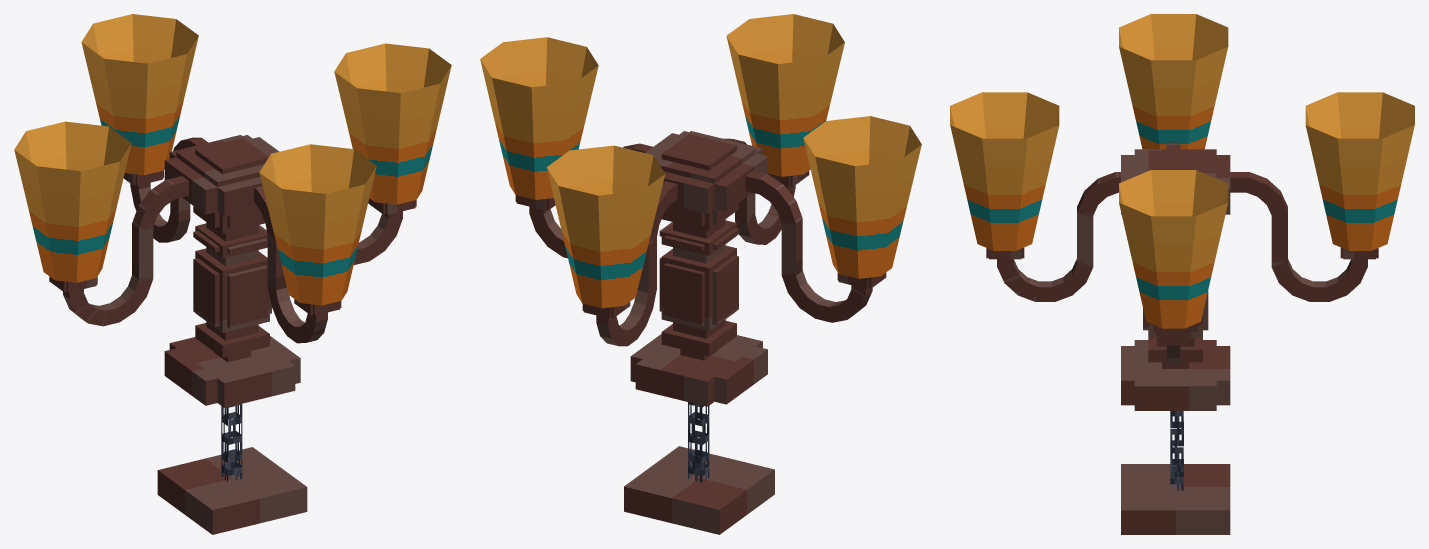
Rendered from ceiling_lights.gltf.
3 views of the same model, side by side, from view 1: azimuth 30°, elevation 25°; view 2: azimuth 150°, elevation 25°; view 3: azimuth 270°, elevation 25° (orthographic).
Visible parts, largest first — view 1: cylinder (×4), cube (×17); view 2: cylinder (×4), cube (×17); view 3: cylinder (×4), cube (×10).
Part boxes in pixels (x1,y1,x2,y2): cylinder (×4): [14, 14, 451, 305]; cube (×17): [132, 135, 307, 534]; cylinder (×4): [480, 14, 921, 308]; cube (×17): [624, 131, 802, 534]; cylinder (×4): [950, 14, 1414, 328]; cube (×10): [1077, 150, 1287, 534].
Size of the model in its own units: 0.5469 by 0.5 by 0.5312.
Materials: 4 (4 with a texture image).
